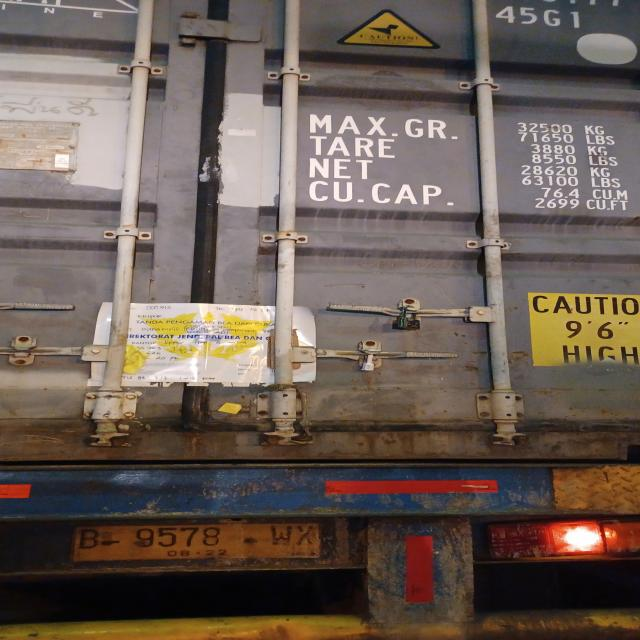seal: (356, 341, 382, 373), (397, 303, 425, 332)
